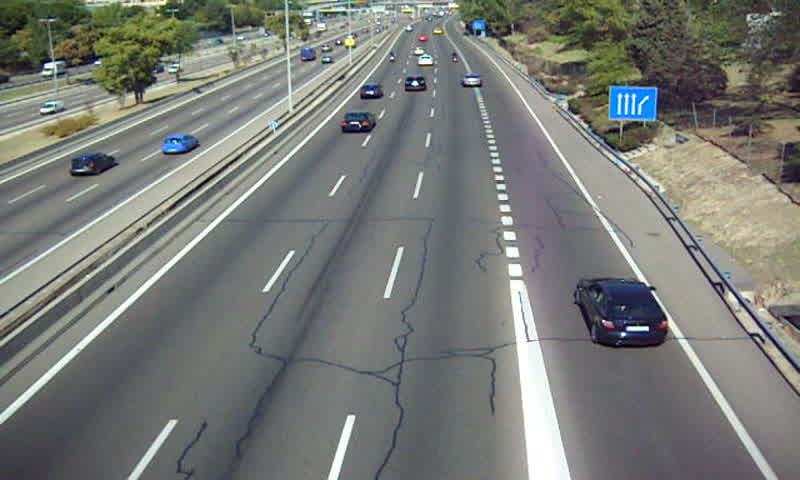car: (579, 278, 668, 344), (341, 110, 374, 133), (403, 74, 426, 93), (359, 83, 382, 101), (461, 73, 483, 88), (416, 53, 435, 66)
